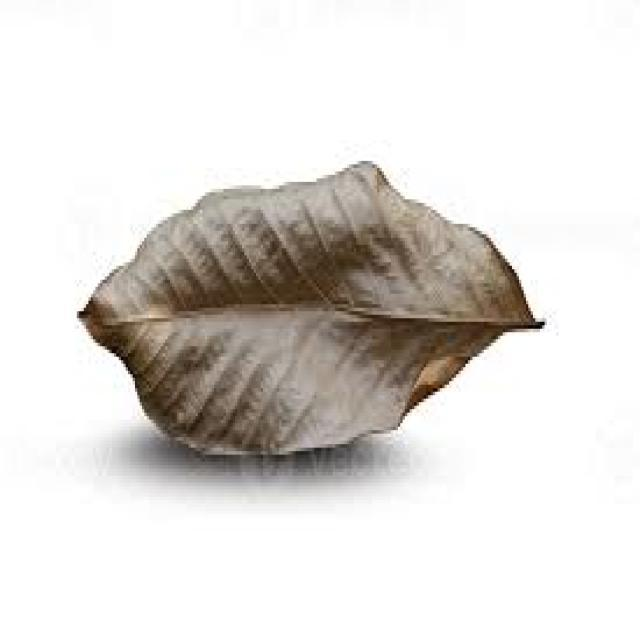leaf: (76, 158, 545, 457)
